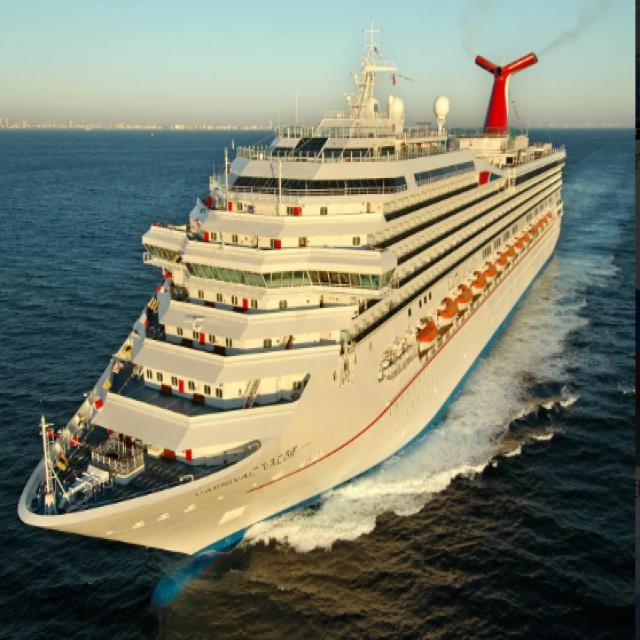passenger ship: (18, 46, 579, 556)
